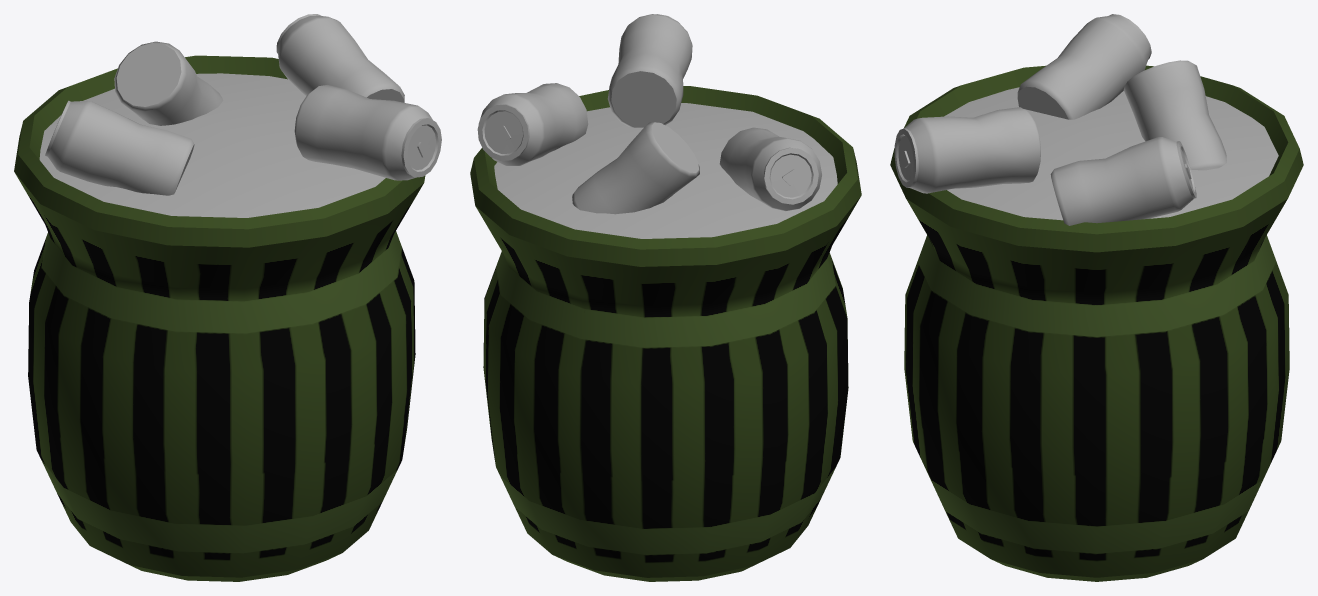
The model's file is trashCanFull.fbx.
3 renders of one model, left to right at view 1: azimuth 30°, elevation 25°; view 2: azimuth 150°, elevation 25°; view 3: azimuth 270°, elevation 25°, orthographic. The views are drawn at different scales.
Visible parts, largest first — view 1: trashCanFull, sodaCanGy, sodaCanGy1, sodaCanGy3, sodaCanGy2; view 2: trashCanFull, sodaCanGy, sodaCanGy2, sodaCanGy3, sodaCanGy1; view 3: trashCanFull, sodaCanGy, sodaCanGy3, sodaCanGy1, sodaCanGy2.
Boxes of the visible parts, bbox=[...] form: trashCanFull: bbox=[14, 55, 425, 581]; sodaCanGy: bbox=[294, 85, 441, 180]; sodaCanGy1: bbox=[45, 100, 194, 195]; sodaCanGy3: bbox=[276, 14, 404, 102]; sodaCanGy2: bbox=[114, 41, 223, 125]; trashCanFull: bbox=[470, 86, 861, 581]; sodaCanGy: bbox=[607, 14, 692, 127]; sodaCanGy2: bbox=[572, 122, 699, 214]; sodaCanGy3: bbox=[477, 83, 588, 165]; sodaCanGy1: bbox=[719, 127, 821, 211]; trashCanFull: bbox=[890, 65, 1303, 581]; sodaCanGy: bbox=[894, 107, 1040, 193]; sodaCanGy3: bbox=[1050, 137, 1196, 225]; sodaCanGy1: bbox=[1017, 14, 1151, 119]; sodaCanGy2: bbox=[1123, 60, 1226, 170].
Bounding box in the file's own units: 118 × 143 × 118.
